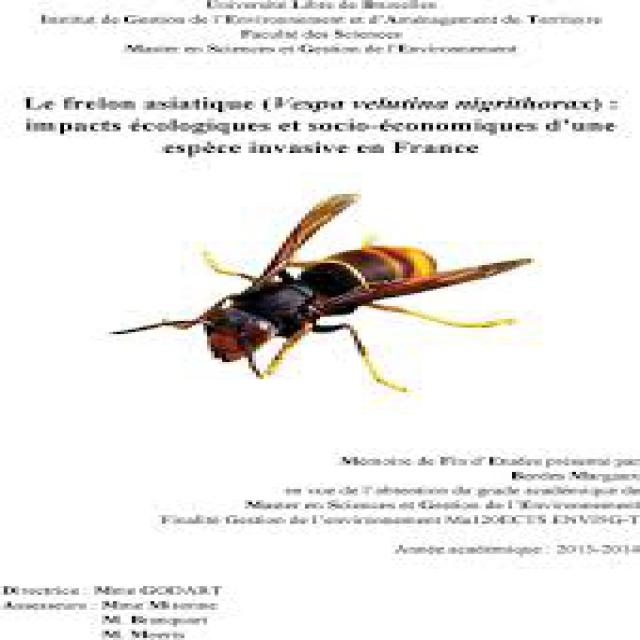Vespa Velutina: (112, 195, 538, 395)
